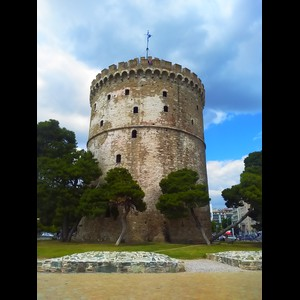White Tower: (84, 29, 213, 249)
